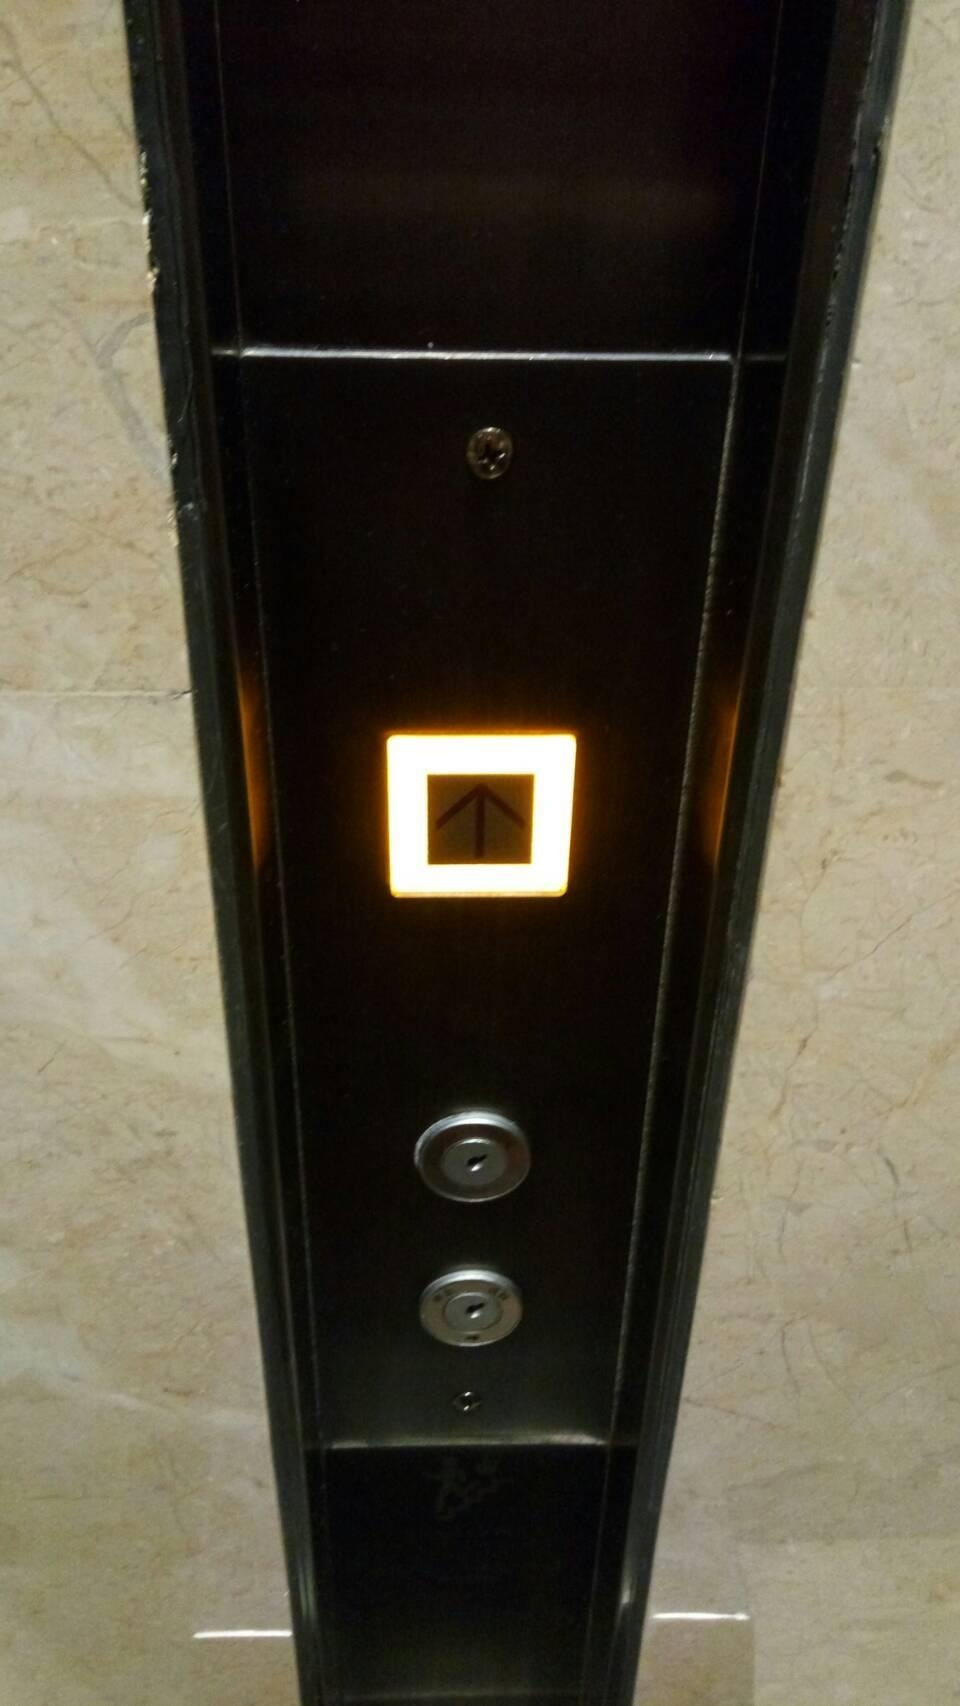keyhole: (410, 1108, 533, 1206), (413, 1261, 527, 1352)
up: (373, 724, 576, 909)
